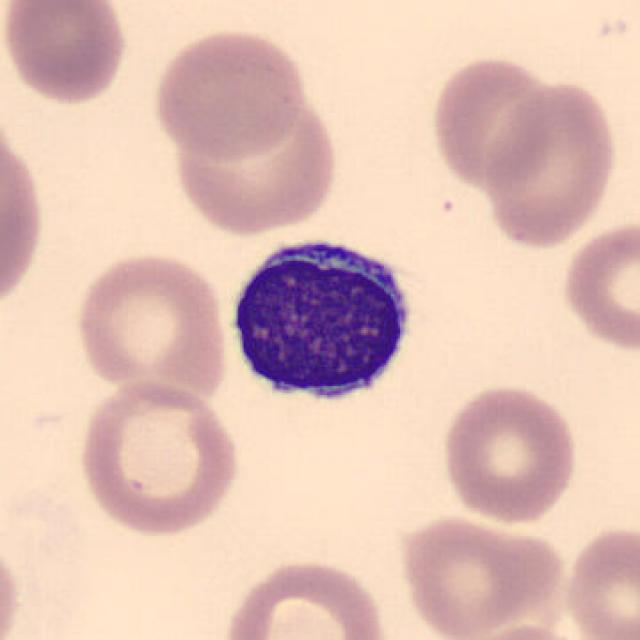Lymphocyte: (219, 224, 423, 420)
RBC: (165, 79, 343, 238), (73, 378, 245, 540), (69, 247, 231, 400), (482, 78, 620, 252), (393, 511, 567, 640), (148, 25, 310, 162), (438, 379, 582, 527), (427, 51, 560, 196), (215, 555, 395, 640), (0, 0, 132, 108), (556, 217, 638, 356), (0, 109, 48, 321), (560, 522, 638, 640), (449, 620, 597, 640), (0, 527, 25, 640)
